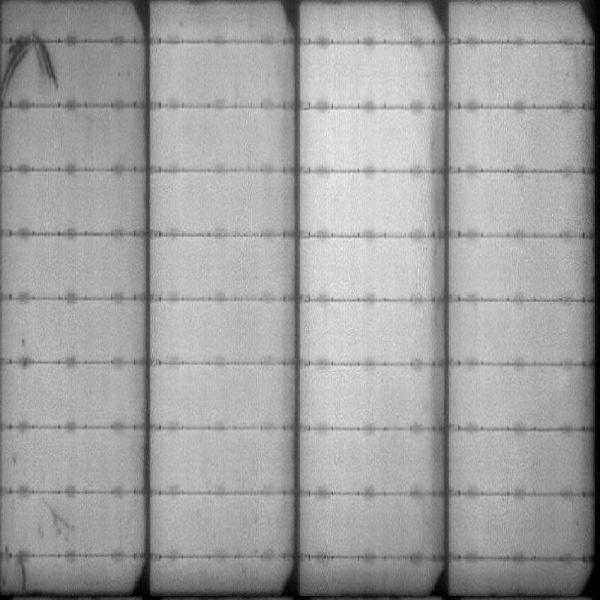scratch: (1, 43, 25, 100), (35, 45, 64, 91), (16, 557, 30, 591)
